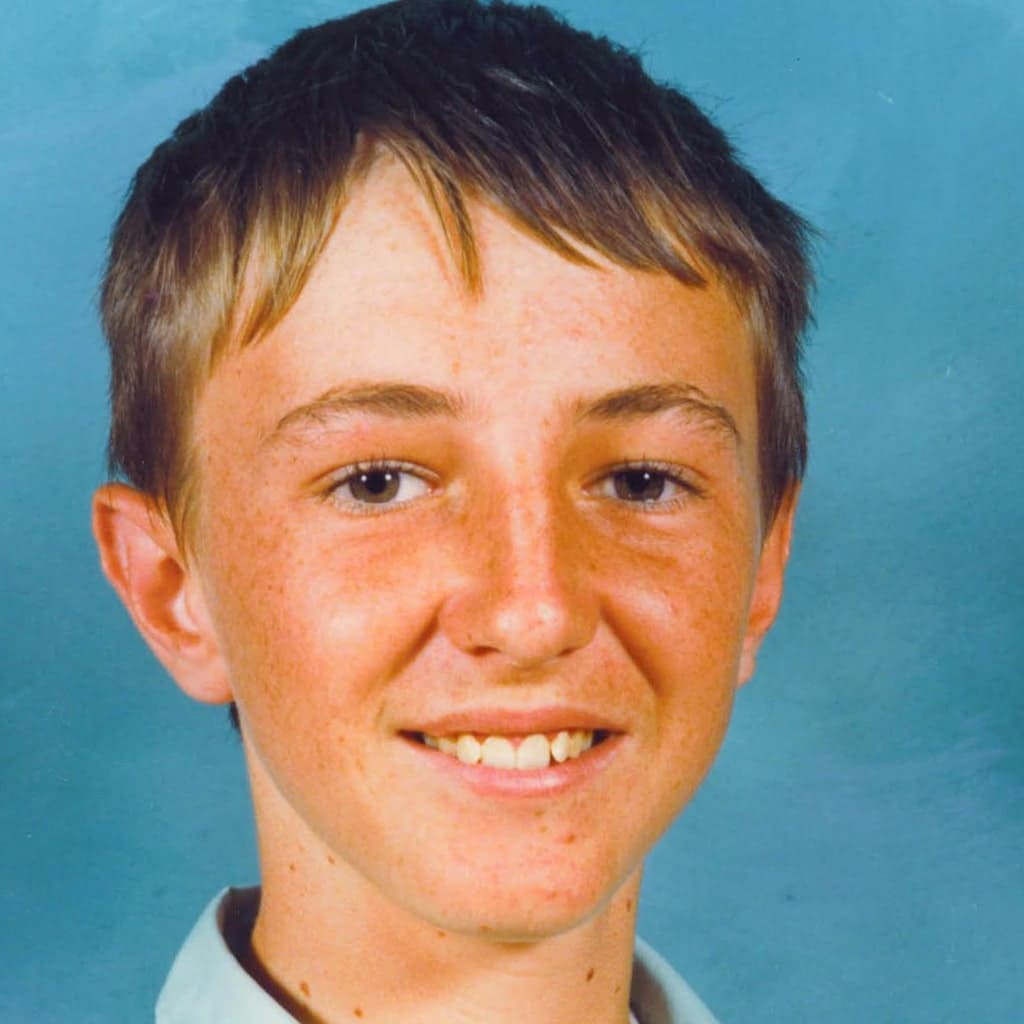without_mask: (225, 322, 740, 826)
